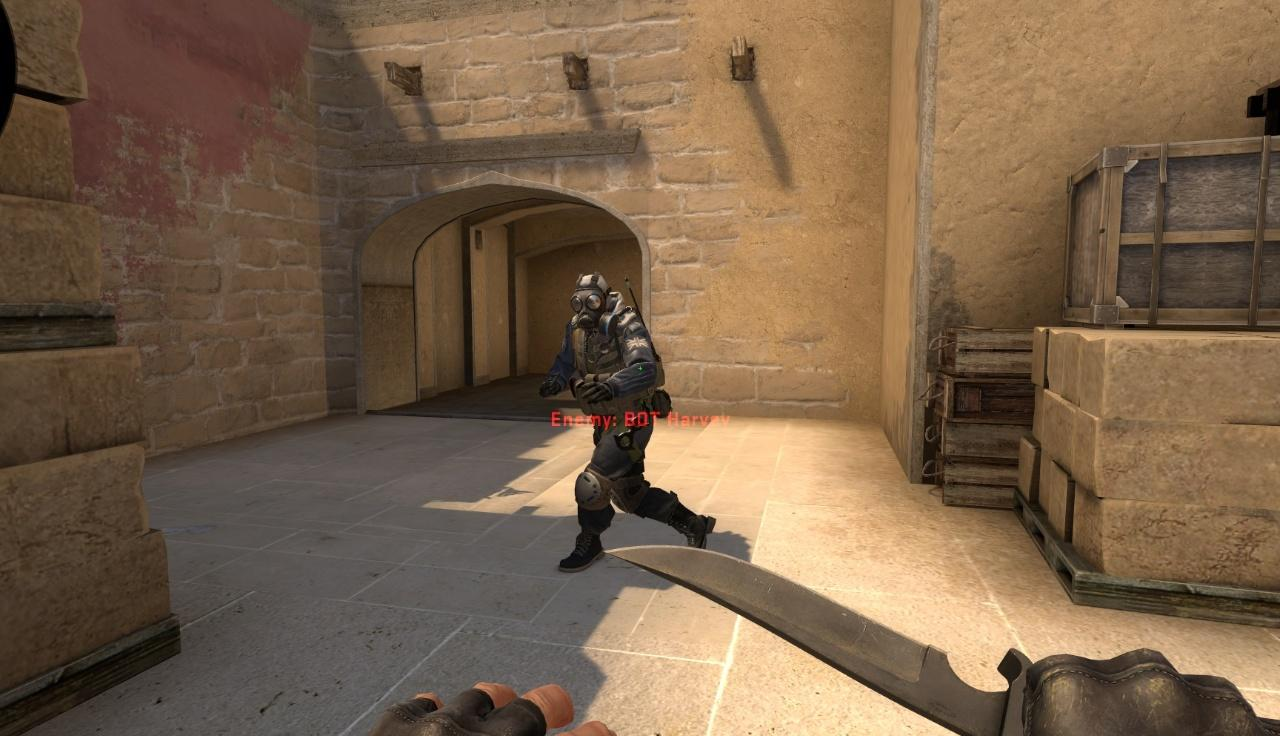ct: (539, 273, 717, 572)
cthead: (570, 274, 616, 329)
